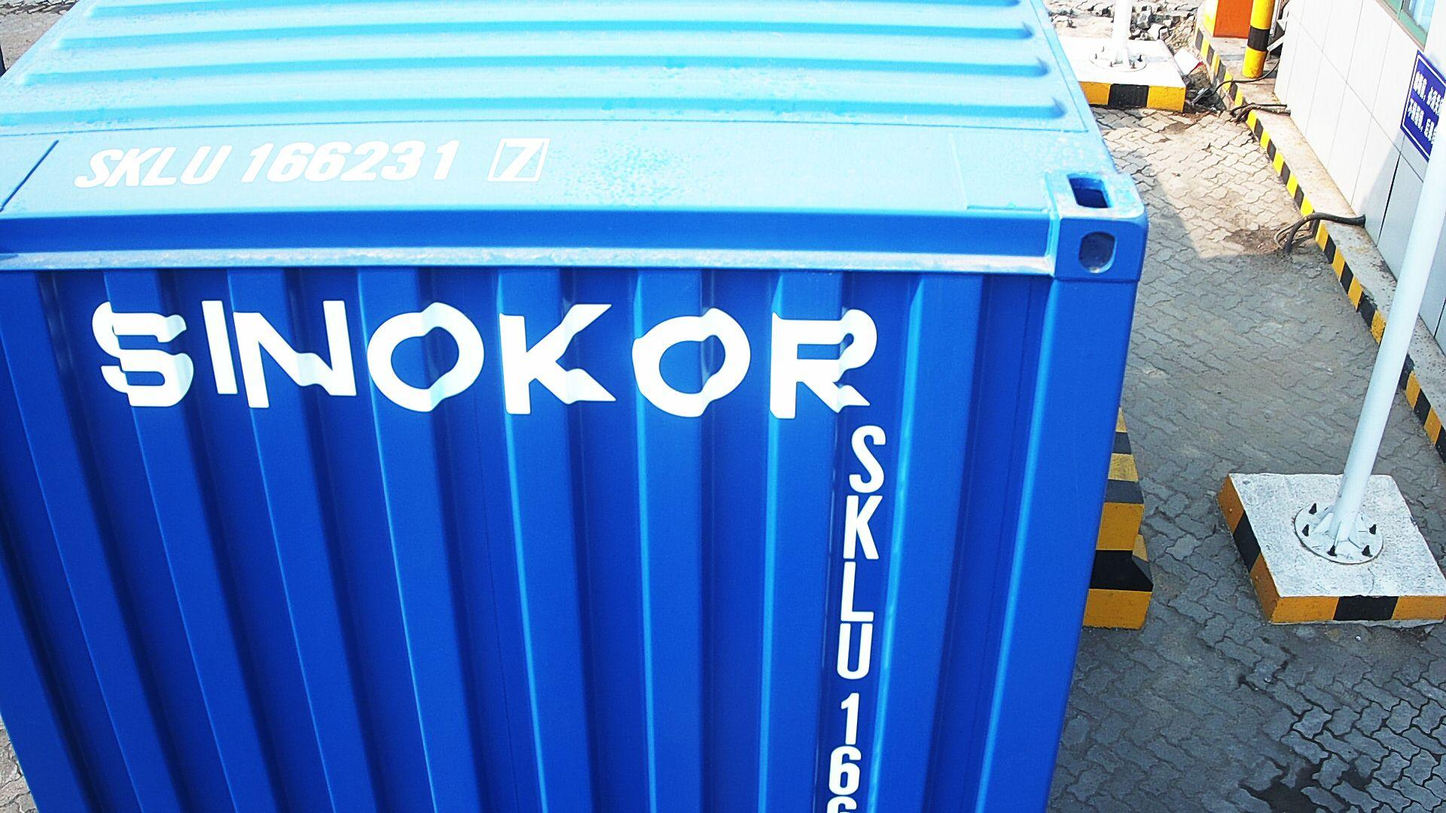container-numbers: (76, 131, 554, 193), (819, 415, 892, 811)
